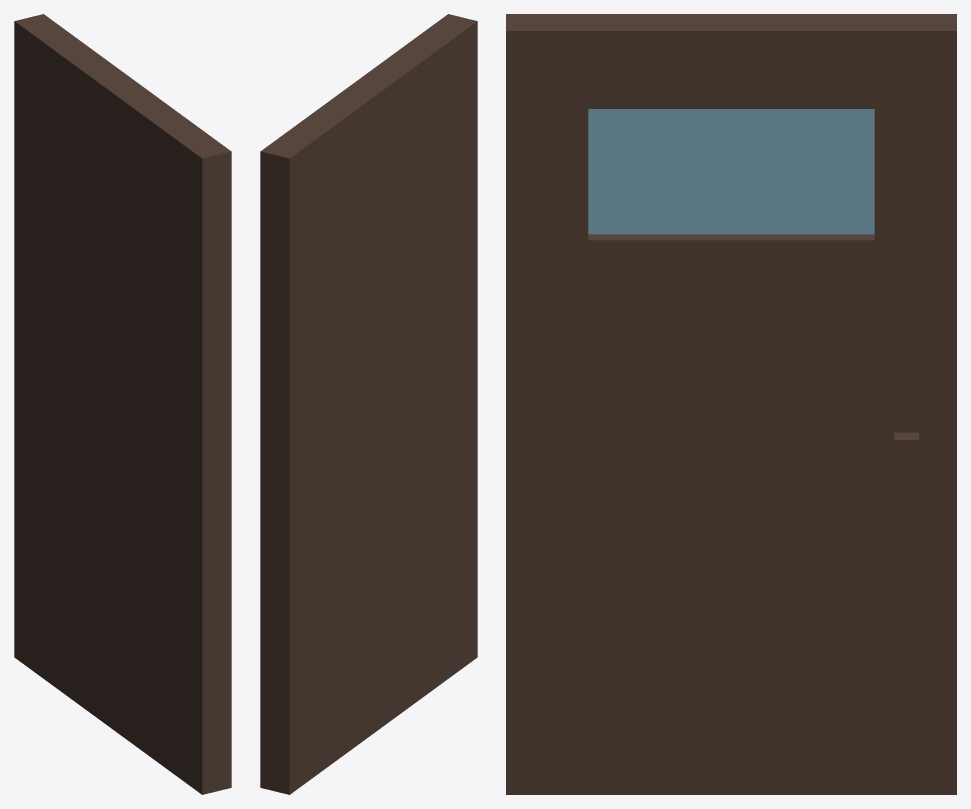
Rendered from door.fbx.
The picture shows the model from 3 angles, left to right: view 1: azimuth 30°, elevation 25°; view 2: azimuth 150°, elevation 25°; view 3: azimuth 270°, elevation 25°; orthographic projection. The views are drawn at different scales.
Parts seen in each view (by area): view 1: Cube; view 2: Cube; view 3: Cube.
Boxes of the visible parts, <box> form: Cube: <box>14,14,231,794</box>; Cube: <box>260,14,477,794</box>; Cube: <box>506,14,956,794</box>.
Size of the model in its own units: 40.77 by 600 by 321.
